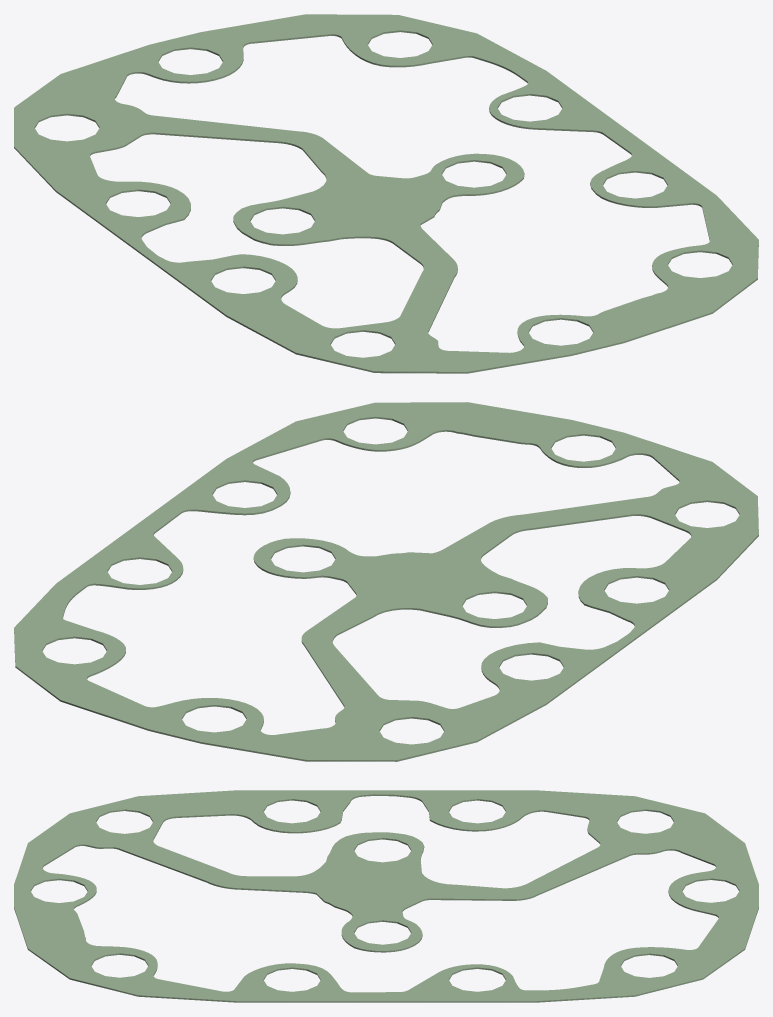
The model's file is mifengpian1.FBX.
3 views of the same model, one above another, from view 1: azimuth 30°, elevation 25°; view 2: azimuth 150°, elevation 25°; view 3: azimuth 270°, elevation 25° (orthographic). The views are drawn at different scales.
Visible parts, largest first — view 1: mifengpian1; view 2: mifengpian1; view 3: mifengpian1.
Boxes of the visible parts, x1,y1,x2,y2 form: mifengpian1: [14, 14, 758, 373]; mifengpian1: [14, 402, 758, 761]; mifengpian1: [14, 790, 758, 1002].
Bounding box in the file's own units: 157 × 0.5146 × 234.
